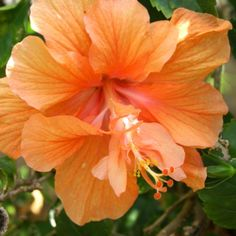Hibiscus: (1, 1, 230, 226)
